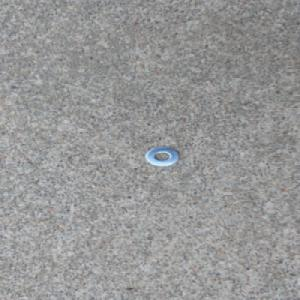Washer: (144, 146, 180, 167)
